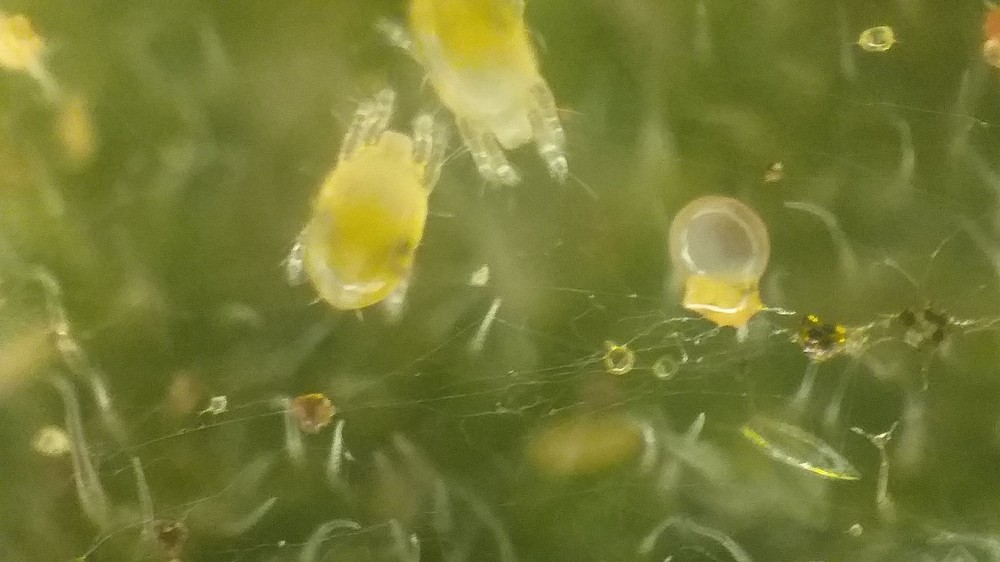Aracnido Rojo: (271, 86, 450, 336), (380, 5, 601, 201)
